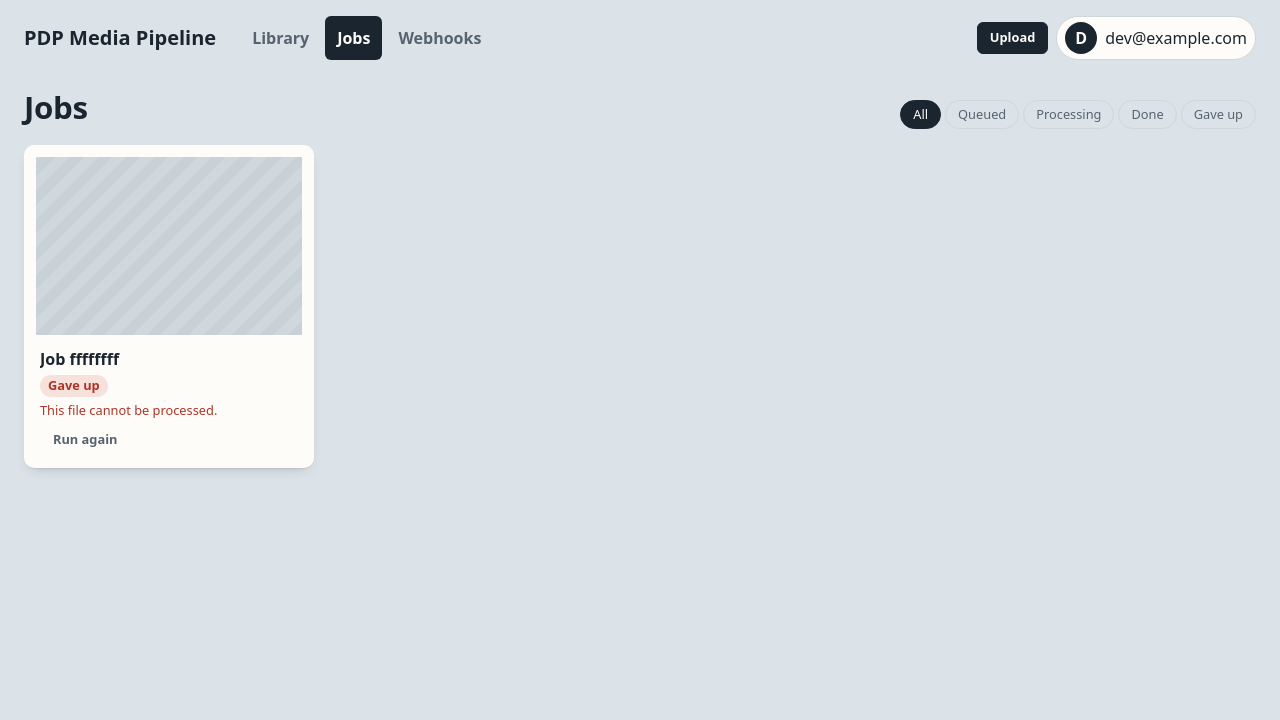
Test case: jobs sheet › says so when a redrive is refused
The image size is (1280, 720).
Click the button "Run again" at [85, 440], box [40,424,130,456]
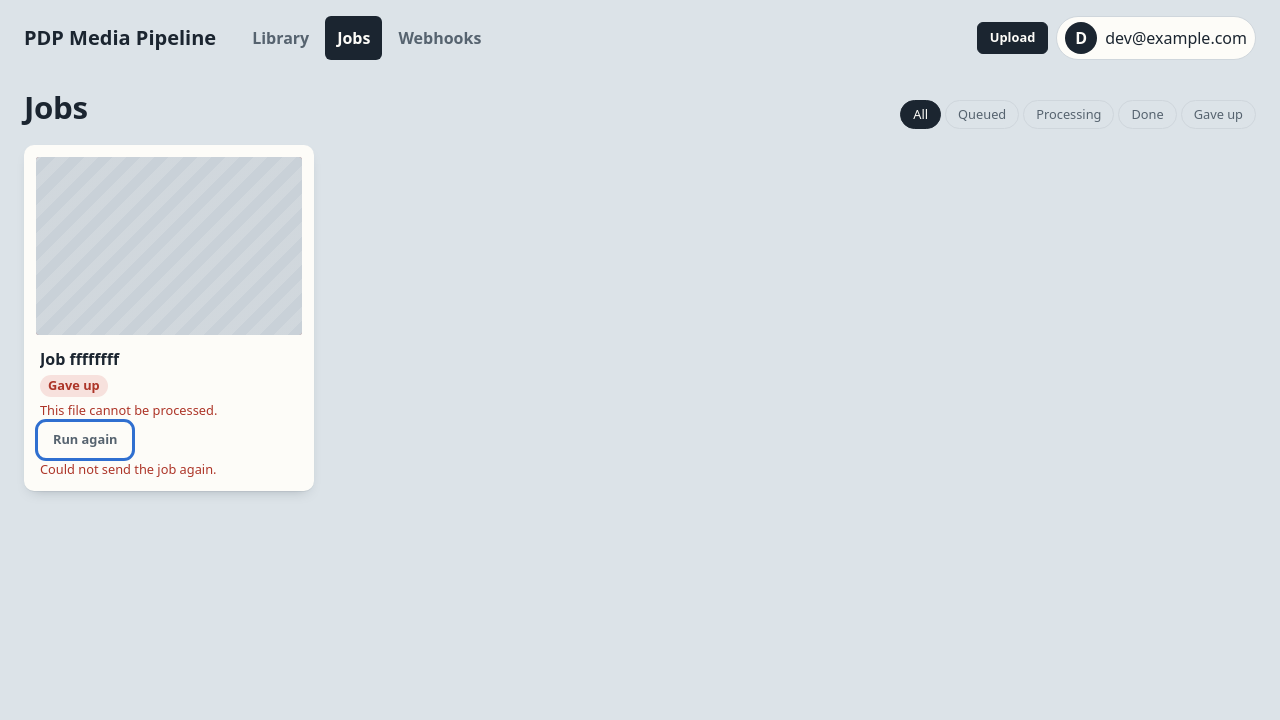
Expected: the message reads "Could not send the job again.", [40,460,216,478]
